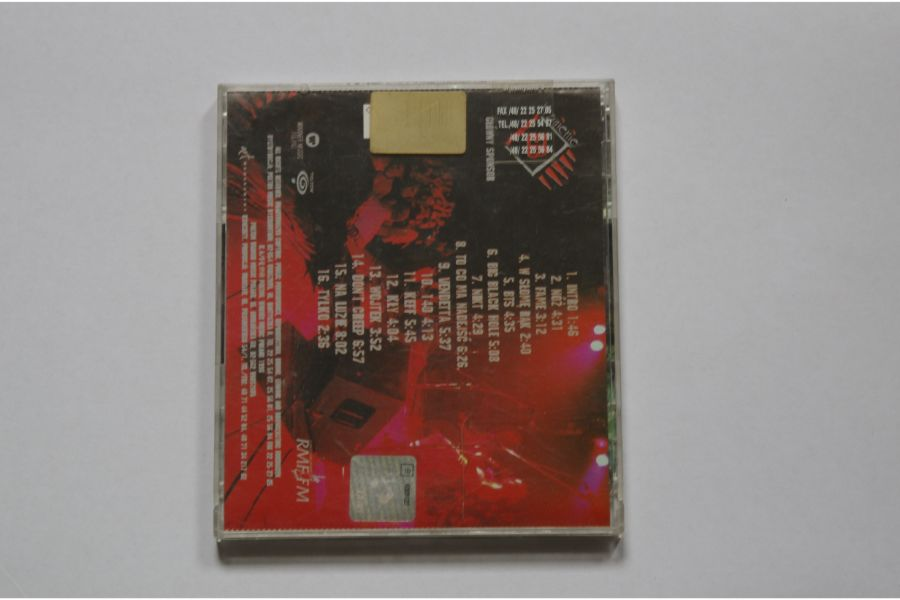album: (213, 81, 627, 543)
